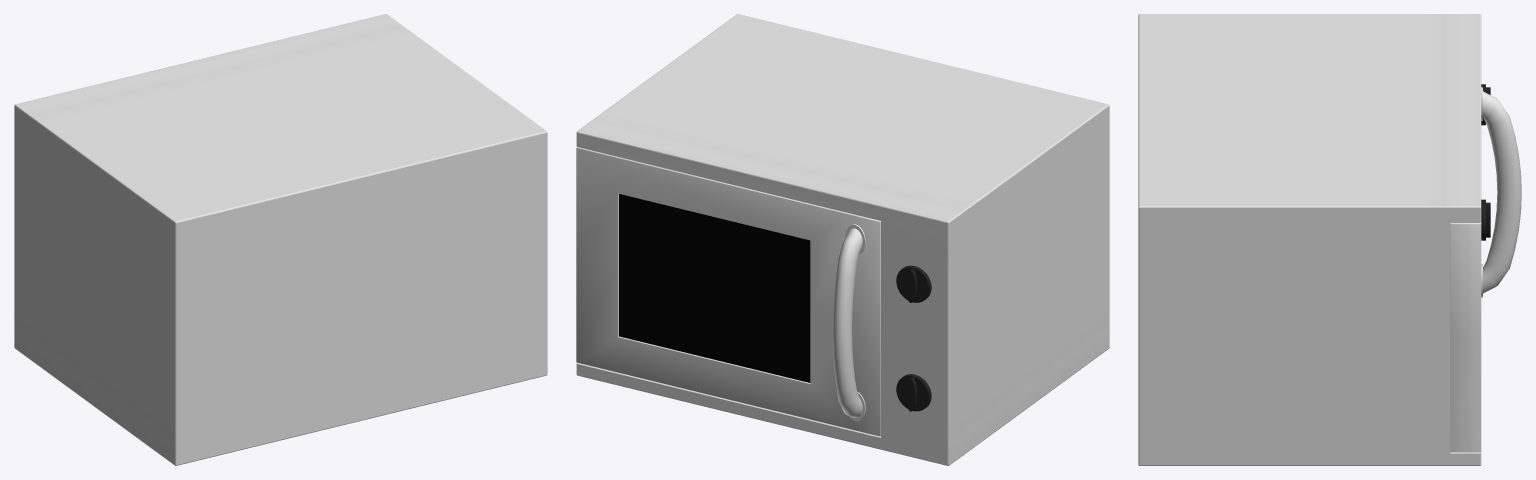
File: MicrowaveOven02.glb
3 views of the same model, side by side, from view 1: azimuth 30°, elevation 25°; view 2: azimuth 150°, elevation 25°; view 3: azimuth 270°, elevation 25° (orthographic). The views are drawn at different scales.
Parts seen in each view (by area): view 1: MicrowaveOven02_model; view 2: MicrowaveOven02_model, MicrowaveOven02_Door, MicrowaveOven02Glass, MicrowaveOven02_Knob01, MicrowaveOven02_Knob02; view 3: MicrowaveOven02_model, MicrowaveOven02_Door.
Part boxes in pixels (x1,y1,x2,y2): MicrowaveOven02_model: (14, 14, 547, 465); MicrowaveOven02_model: (576, 14, 1109, 465); MicrowaveOven02_Door: (576, 147, 880, 436); MicrowaveOven02Glass: (619, 194, 810, 382); MicrowaveOven02_Knob01: (896, 265, 931, 302); MicrowaveOven02_Knob02: (896, 374, 931, 411); MicrowaveOven02_model: (1138, 14, 1481, 465); MicrowaveOven02_Door: (1450, 87, 1521, 452).
Bounding box in the file's own units: 1.18 × 0.7388 × 0.989.
2 materials, 1 textured.
